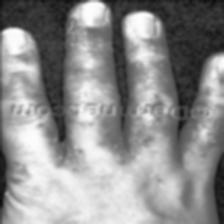Non-Cancerous Skin Condition: (0, 114, 224, 190), (62, 0, 115, 99), (124, 10, 174, 95)
